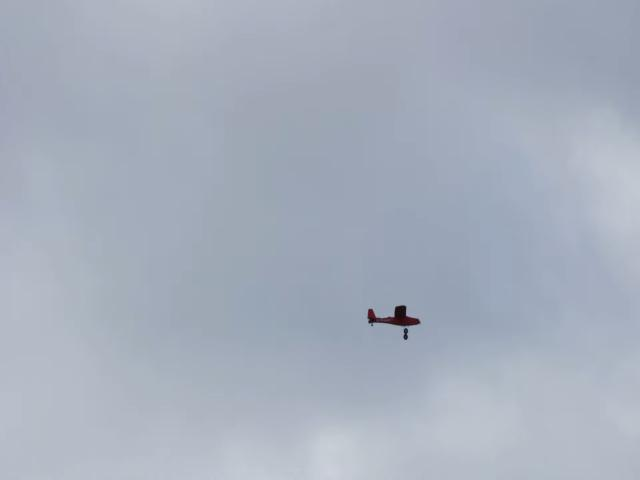plane: (368, 306, 421, 340)
